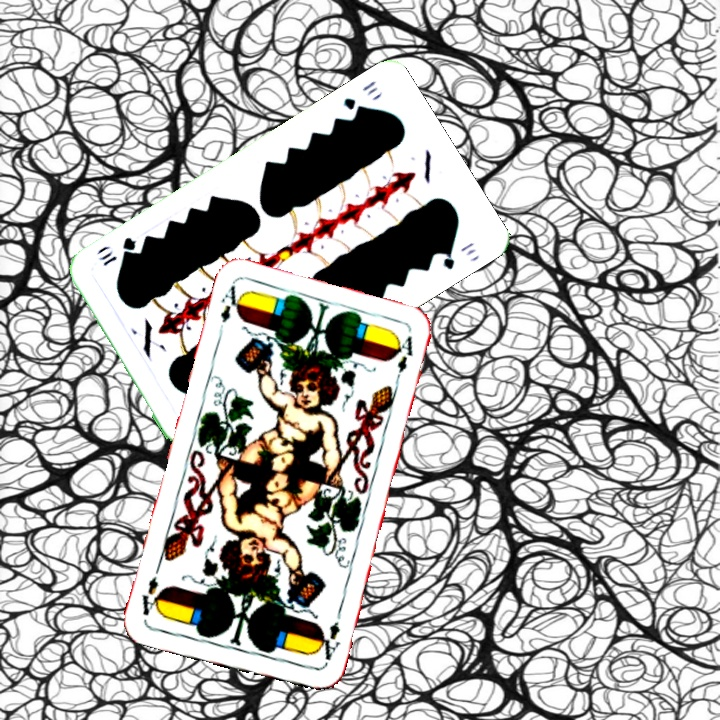EA: (214, 281, 246, 339), (313, 617, 343, 668)
G10: (339, 76, 381, 118)
